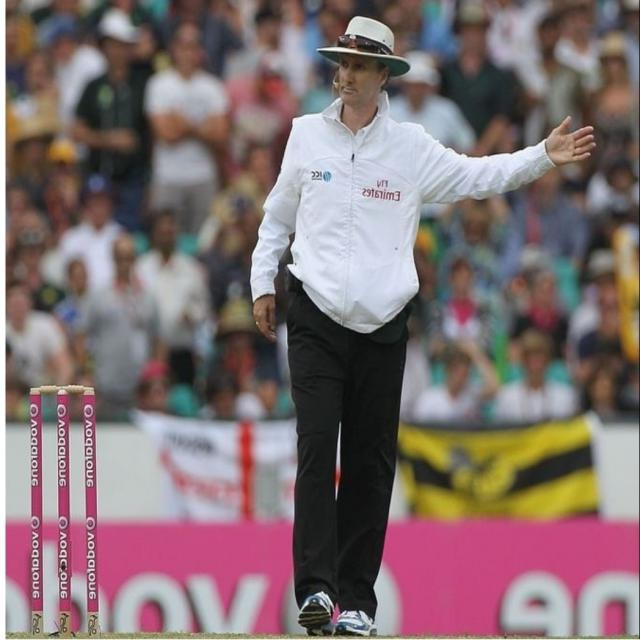No_Ball: (229, 7, 602, 640)
